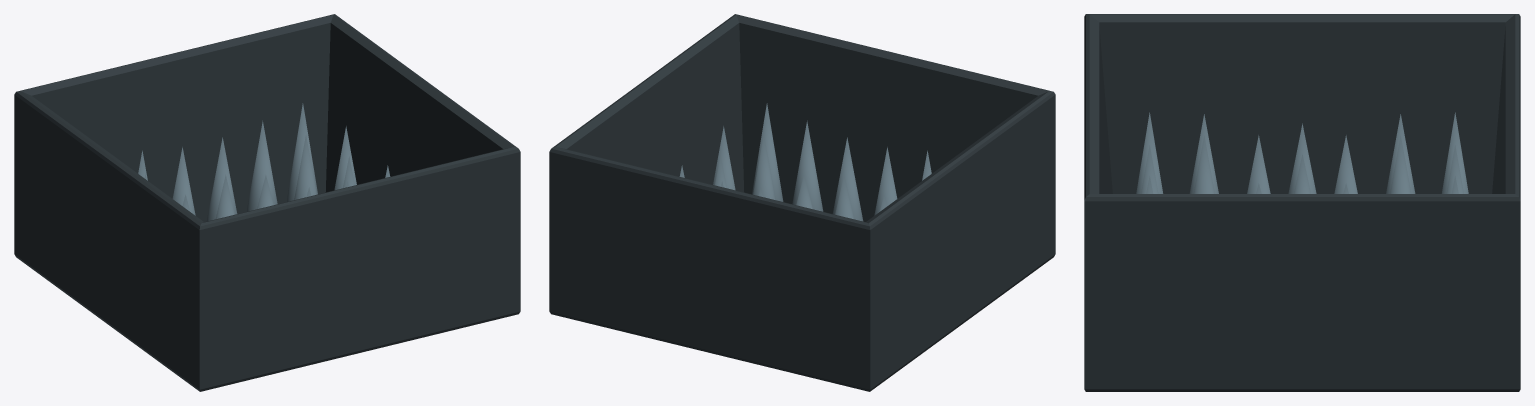
File: tileSpikes_large.obj
3 views of the same model, side by side, from view 1: azimuth 30°, elevation 25°; view 2: azimuth 150°, elevation 25°; view 3: azimuth 270°, elevation 25° (orthographic). The views are drawn at different scales.
Visible parts, largest first — view 1: tileSpikes_large_Cube.3231; view 2: tileSpikes_large_Cube.3231; view 3: tileSpikes_large_Cube.3231.
Part boxes in pixels (x1,y1,x2,y2): tileSpikes_large_Cube.3231: (14, 14, 520, 391); tileSpikes_large_Cube.3231: (549, 14, 1055, 391); tileSpikes_large_Cube.3231: (1084, 14, 1520, 391).
Size of the model in its own units: 4 by 2 by 4.
